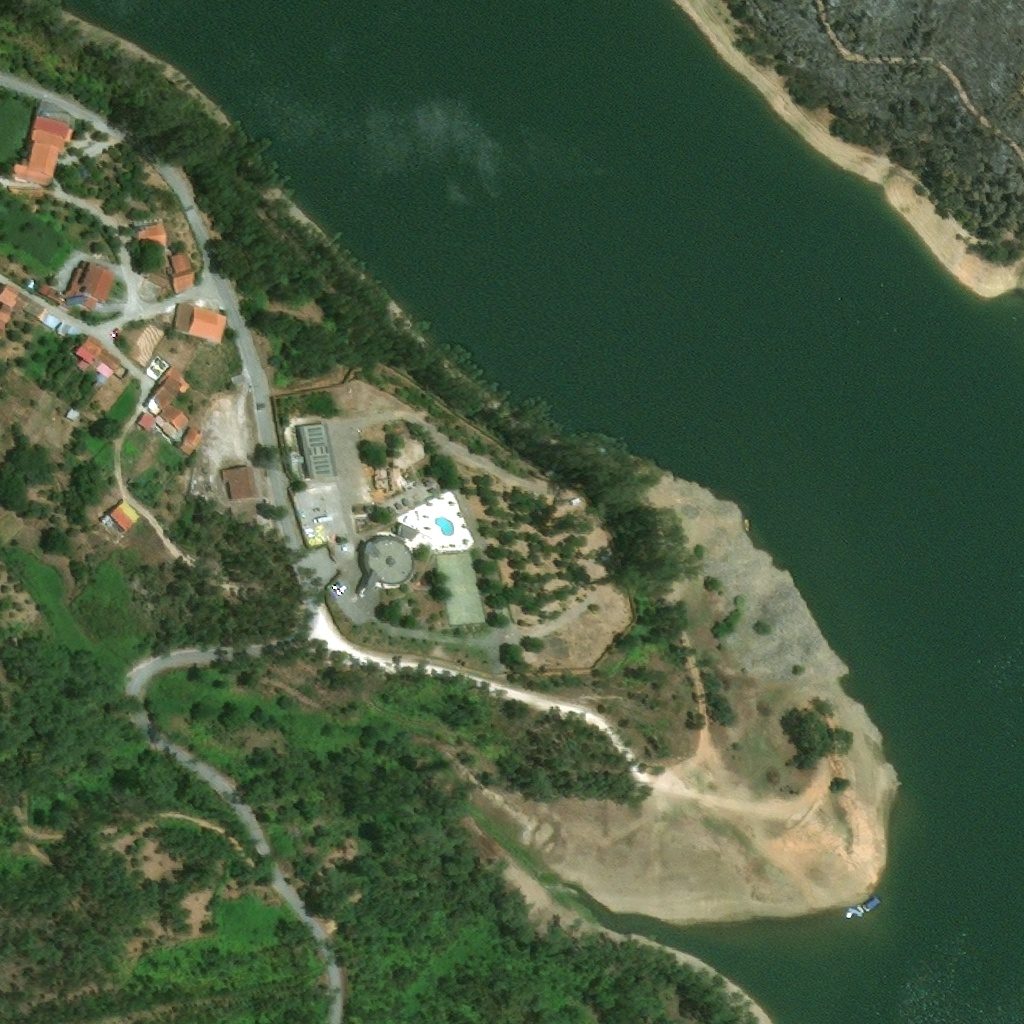0 no-damage: (358, 536, 415, 600), (146, 366, 193, 442), (46, 262, 116, 309), (0, 282, 48, 340), (8, 140, 61, 188), (296, 422, 338, 480), (174, 302, 227, 346), (223, 466, 259, 500), (169, 250, 196, 294), (91, 345, 123, 377), (109, 498, 140, 531), (74, 331, 105, 363), (47, 315, 84, 340), (31, 117, 73, 139), (134, 220, 168, 246), (177, 424, 205, 455), (27, 129, 65, 147), (37, 106, 71, 123), (149, 267, 170, 288), (397, 522, 421, 539), (137, 411, 155, 430), (4, 187, 42, 195), (23, 277, 40, 291)
